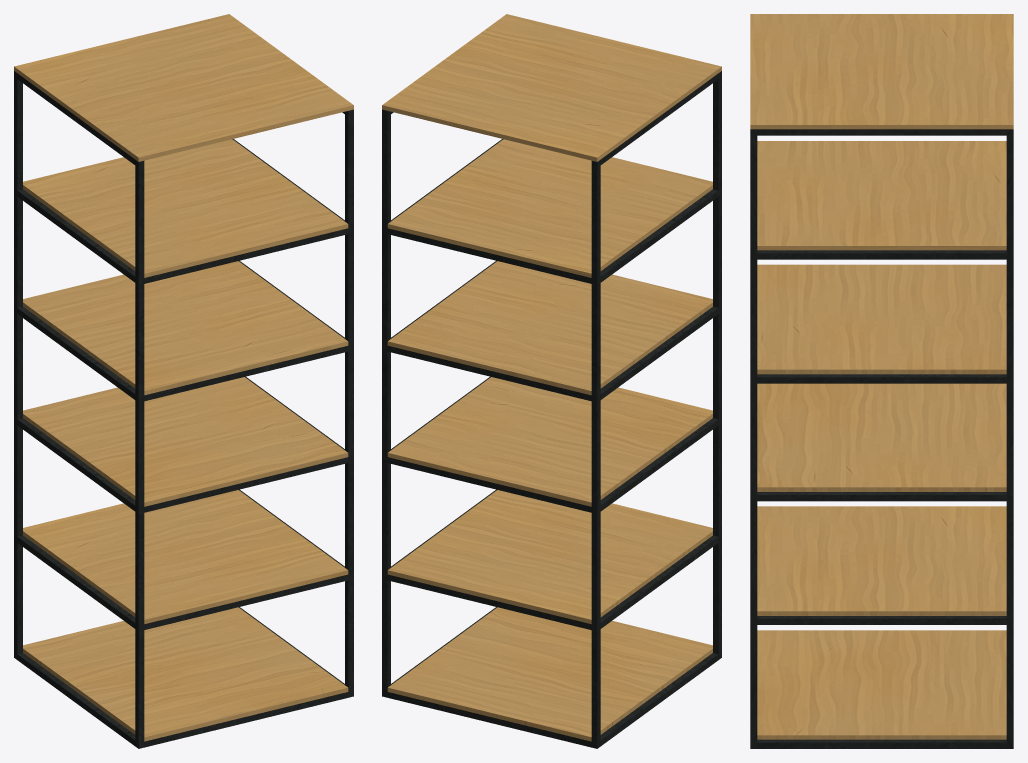
The model's file is cabinet_1_4.glb.
3 views of the same model, side by side, from view 1: azimuth 30°, elevation 25°; view 2: azimuth 150°, elevation 25°; view 3: azimuth 270°, elevation 25° (orthographic). The views are drawn at different scales.
Visible parts, largest first — view 1: cabinet_1_4; view 2: cabinet_1_4; view 3: cabinet_1_4.
Part boxes in pixels (bbox=[...]): cabinet_1_4: bbox=[14, 14, 353, 748]; cabinet_1_4: bbox=[382, 14, 721, 748]; cabinet_1_4: bbox=[750, 14, 1013, 748].
Size of what is drawn, in the model's own units: 1 by 2.63 by 1.
Materials: 2 (2 with a texture image).
